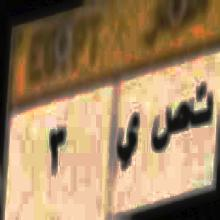3: (49, 122, 68, 176)
saad: (148, 98, 188, 158)
taa: (192, 81, 214, 134)
yaa: (114, 109, 141, 175)
